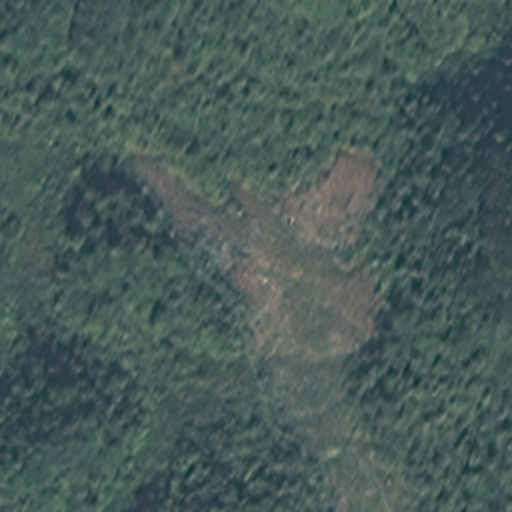landslide: (151, 136, 397, 335)
